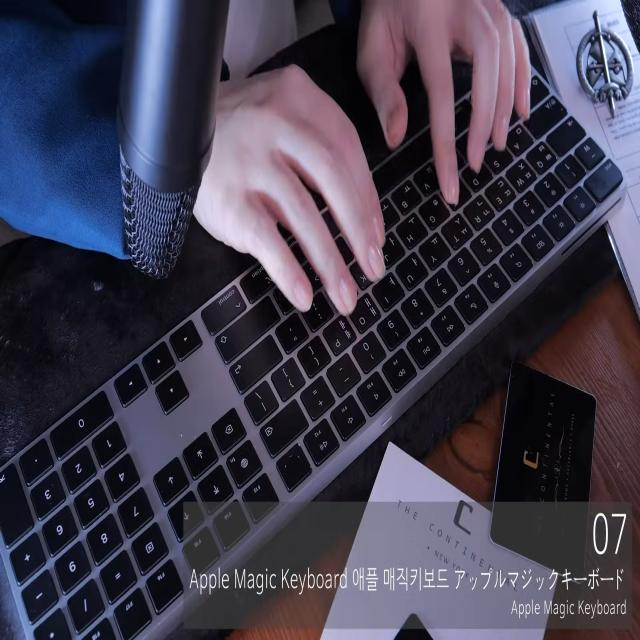keyboard-with-hands: (0, 54, 627, 640)
